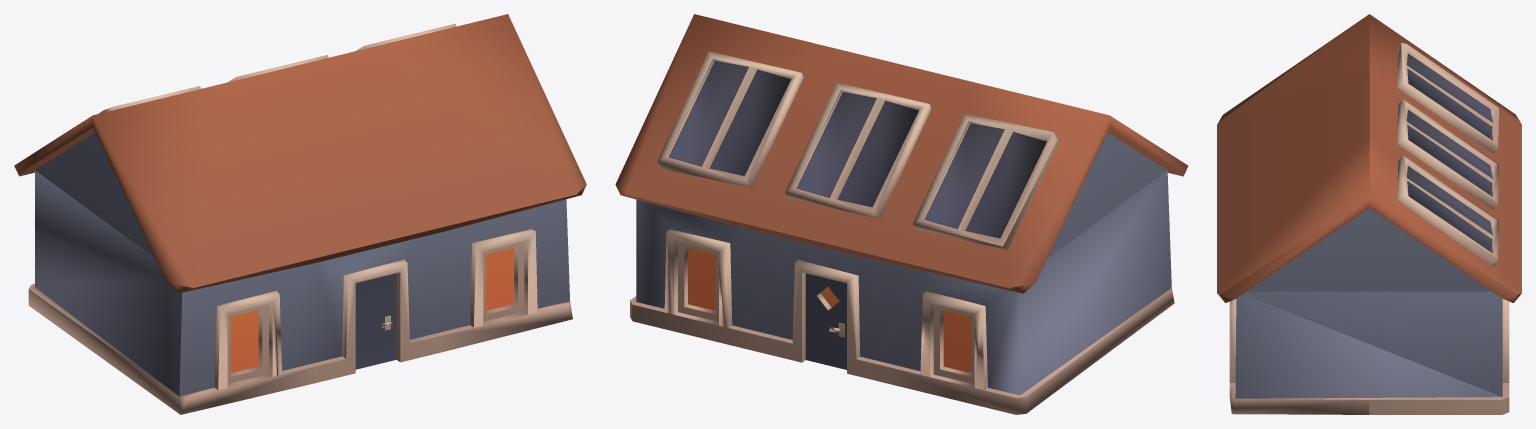
Rendered from casa_h.fbx.
3 renders of one model, left to right at view 1: azimuth 30°, elevation 25°; view 2: azimuth 150°, elevation 25°; view 3: azimuth 270°, elevation 25°, orthographic. The views are drawn at different scales.
Visible parts, largest first — view 1: casa_h; view 2: casa_h; view 3: casa_h.
Part boxes in pixels (box(x1,y1,x2,y2)): casa_h: box(14, 14, 586, 414); casa_h: box(615, 14, 1188, 414); casa_h: box(1217, 14, 1521, 414).
Bounding box in the file's own units: 1.3 × 0.7375 × 0.916.
